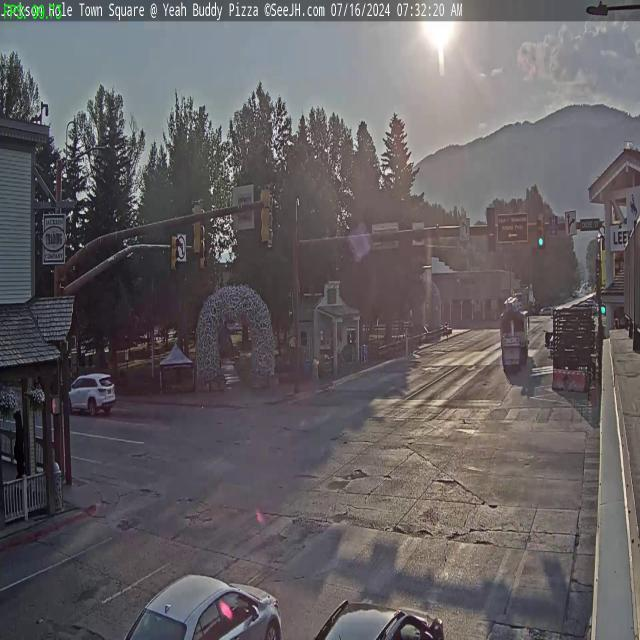sedan: (115, 569, 288, 640)
suv: (307, 594, 447, 640), (66, 364, 114, 420)
traffic light: (258, 183, 274, 247), (193, 199, 204, 255), (486, 206, 496, 254), (537, 214, 546, 250), (172, 234, 180, 274), (201, 238, 208, 275)
truck: (500, 296, 531, 374)
